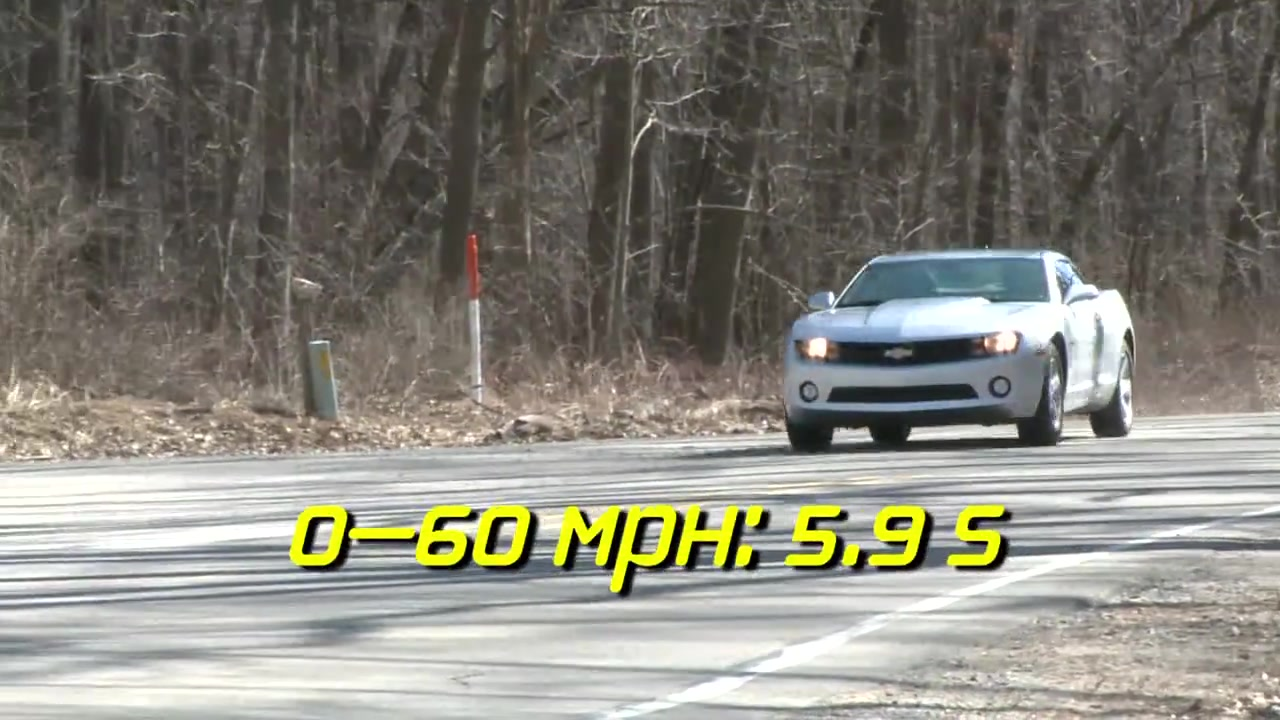car: (780, 234, 1144, 450)
